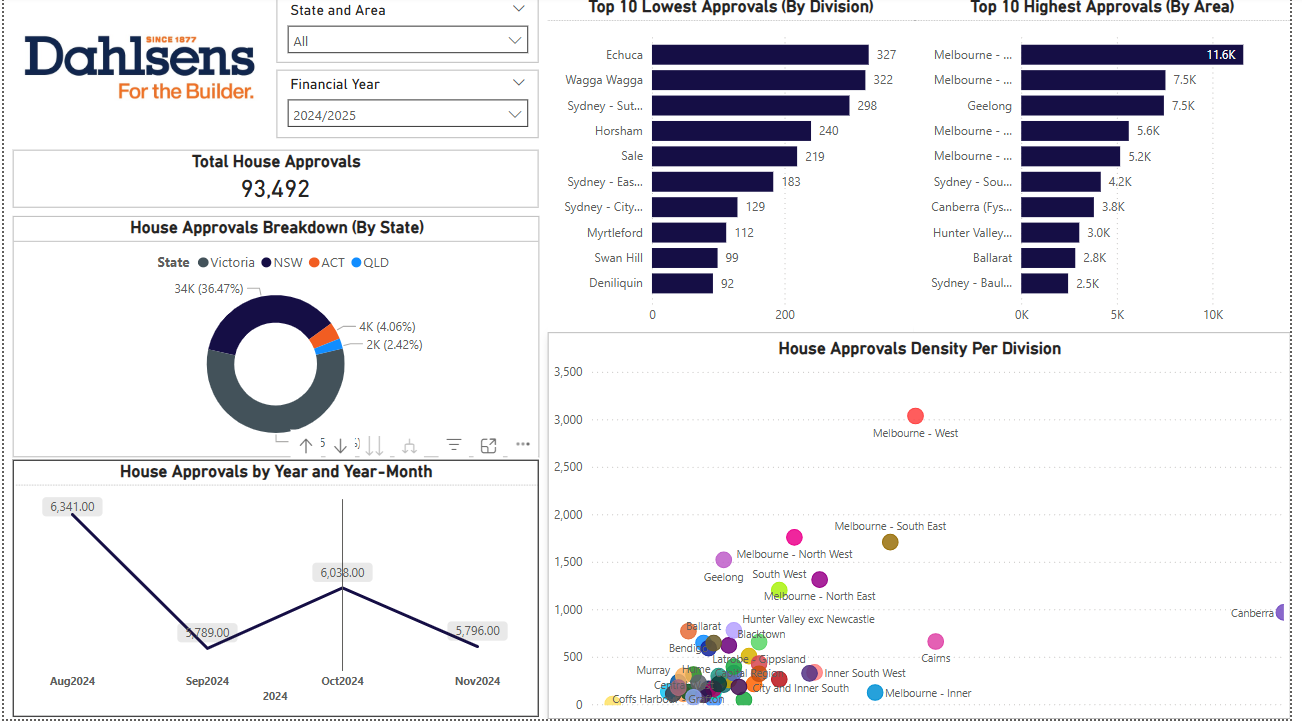

Layout of this report page (visuals, bound fields, positions):
{"tool":"powerbi","page":{"name":"House Market Demand Insights","canvas":[1280,720],"ordinal":1},"visuals":[{"type":"donutChart","title":"House Approvals Breakdown (By State)","fields":{"Y":["Sum(all_houses_FY.TY)"],"Category":["DimStateMapping.State1"]},"box":[9.2,218.4,524.1,240.2],"z":0},{"type":"scatterChart","title":"House Approvals Density Per Division","fields":{"Category":["DimStateMapping.Stat_Divn1"],"Y":["all_houses_variances(M-Y).ApprovalCount"],"X":["all_houses_variances(M-Y).Local_Govt"],"Series":["DimStateMapping.Stat_Divn1"]},"box":[541.4,334.5,739.1,385.1],"z":2000},{"type":"lineChart","fields":{"Category":["all_units_variances(M-Y).Year","DimCalendar.Year-Month"],"Y":["Sum(all_houses_variances(M-Y).ApprovalCount)"]},"box":[9.2,460.9,523,256.3],"z":3000},{"type":"clusteredBarChart","title":"Top 10 Highest Approvals (By Area)","fields":{"Y":["Sum(all_houses_FY.TY)"],"Category":["DimStateMapping.AreaPartition"]},"box":[905.7,0,374.7,334.5],"z":4000},{"type":"clusteredBarChart","title":"Top 10 Lowest Approvals (By Division)","fields":{"Category":["DimStateMapping.AreaPartition"],"Y":["Sum(all_houses_FY.TY)"]},"box":[541.4,0,364.4,334.5],"z":5000},{"type":"card","title":"Total House Approvals","fields":{"Values":["Sum(all_houses_FY.TY)"]},"box":[9.2,152.9,523,57.5],"z":6000},{"type":"slicer","fields":{"Values":["DimCalendar.FinancialYear","DimCalendar.FinancialQuarter","DimCalendar.Month"]},"box":[271.3,73.6,260.9,67.8],"z":7000},{"type":"slicer","fields":{"Values":["DimStateMapping.State","DimStateMapping.AreaPartition"]},"box":[271.3,0,260.9,66.7],"z":8000},{"type":"image","box":[0,0,271.3,141.4],"z":9000}]}

Visuals, with their boxes in screenshot pixels (x1, y1, x2, y2), scaled from the page's 1280x720 canvas onto the 1302x722 screenshot:
"House Approvals Breakdown (By State)" donutChart: BBox(9, 219, 542, 460)
"House Approvals Density Per Division" scatterChart: BBox(551, 335, 1301, 721)
lineChart - all_units_variances(M-Y).Year x DimCalendar.Year-Month: BBox(9, 462, 541, 719)
"Top 10 Highest Approvals (By Area)" clusteredBarChart: BBox(921, 0, 1301, 335)
"Top 10 Lowest Approvals (By Division)" clusteredBarChart: BBox(551, 0, 921, 335)
"Total House Approvals" card: BBox(9, 153, 541, 211)
slicer - DimCalendar.FinancialYear x DimCalendar.FinancialQuarter: BBox(276, 74, 541, 142)
slicer - DimStateMapping.State x DimStateMapping.AreaPartition: BBox(276, 0, 541, 67)
image: BBox(0, 0, 276, 142)
